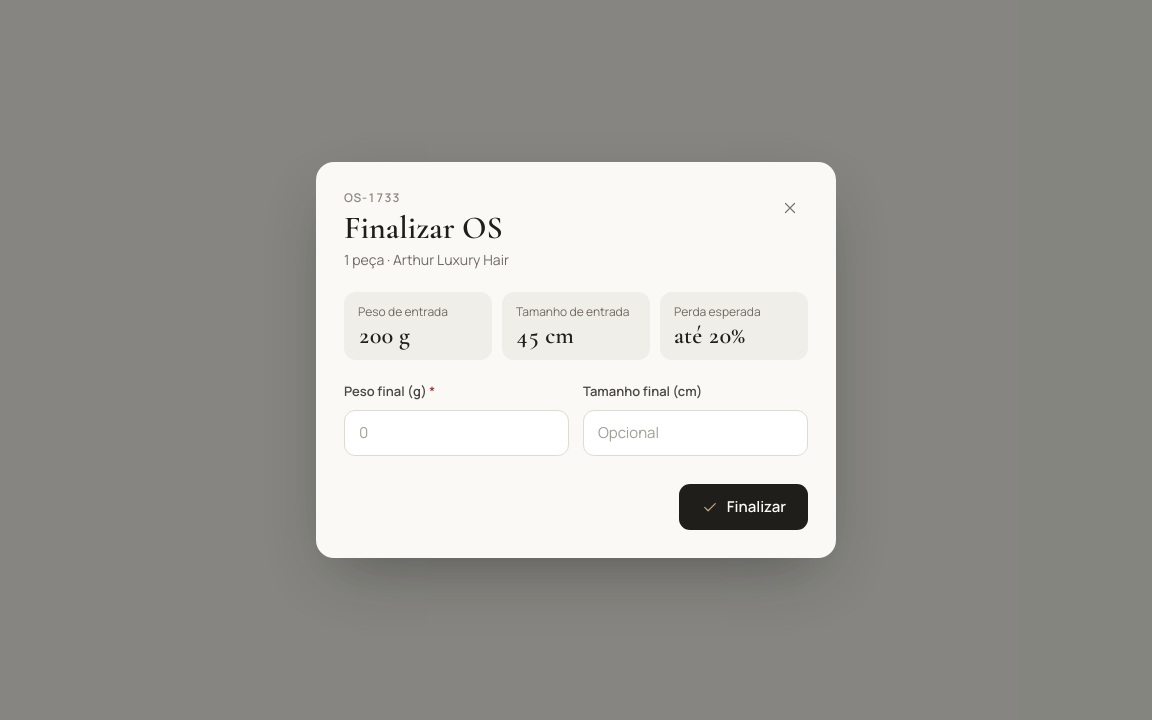
Scenario: FinalizarOSModal › mostra a mensagem do backend quando a API recusa
In the number field labelled "Peso final (g) *": (456, 433) x1=344 y1=410 x2=569 y2=456, type "150"
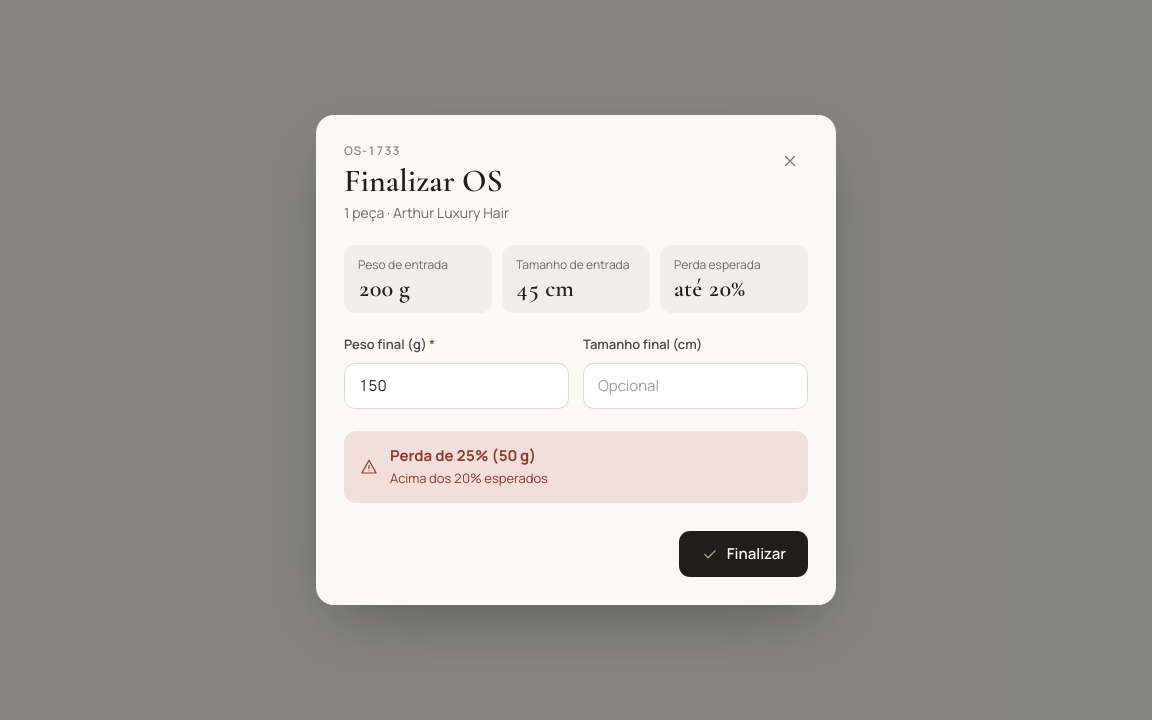
Click the button "Finalizar": (743, 554) x1=679 y1=531 x2=808 y2=577
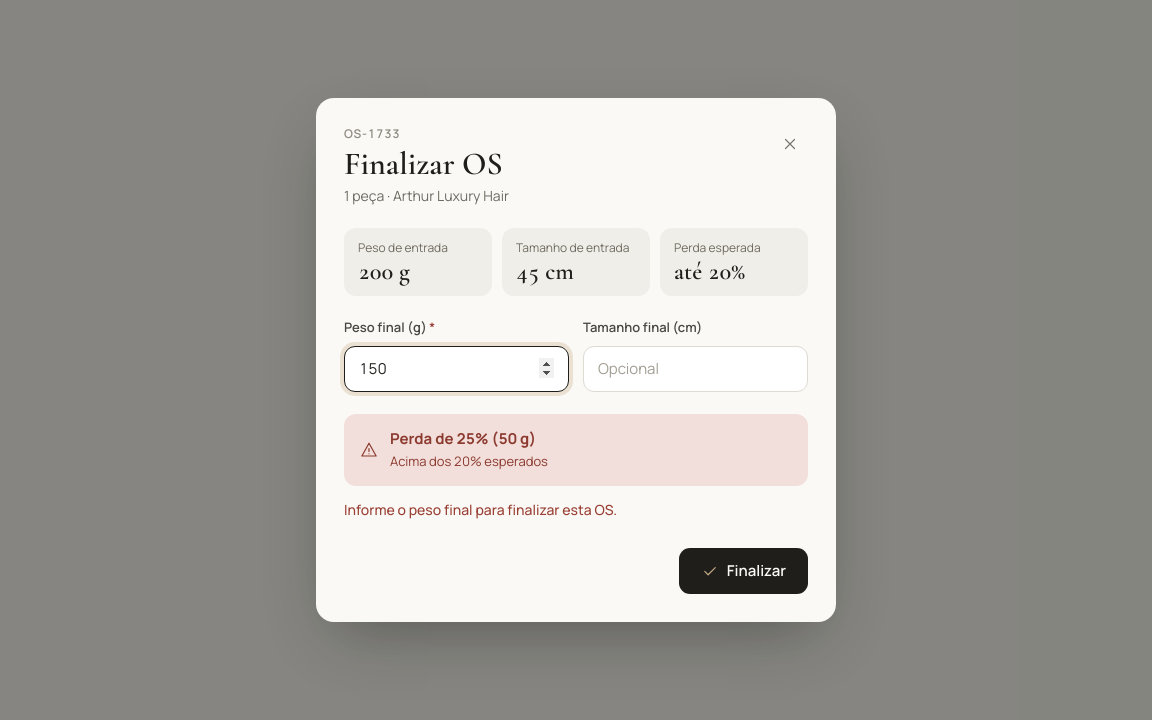
Check: the text "Informe o peso final para finalizar esta OS." is shown, box x1=344 y1=500 x2=617 y2=519
